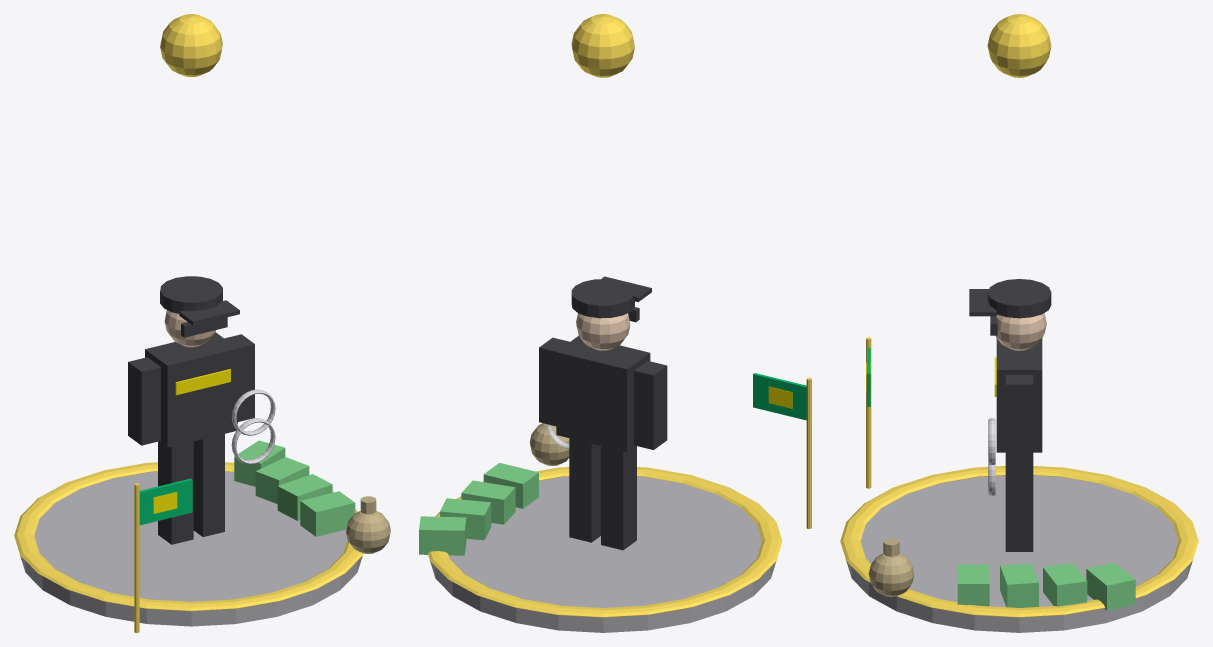
The model's file is Agente_L4.fbx.
The picture shows the model from 3 angles, left to right: view 1: azimuth 30°, elevation 25°; view 2: azimuth 150°, elevation 25°; view 3: azimuth 270°, elevation 25°; orthographic projection.
Visible parts, largest first — view 1: Agente_L4.001; view 2: Agente_L4.001; view 3: Agente_L4.001.
Boxes of the visible parts, x1,y1,x2,y2 form: Agente_L4.001: (14, 14, 390, 632); Agente_L4.001: (419, 14, 811, 632); Agente_L4.001: (840, 14, 1198, 632).
Bounding box in the file's own units: 3.92 × 6.55 × 3.92.
